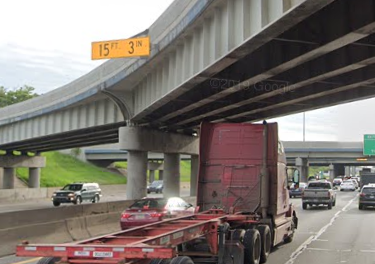1: (97, 42, 102, 56)
3: (126, 39, 135, 55)
5: (101, 41, 111, 57)
overheadsign: (87, 38, 151, 59)
